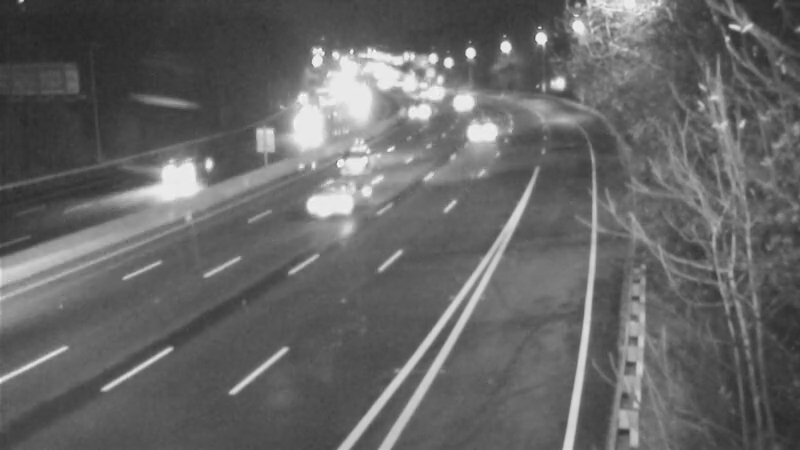vehicle: (318, 121, 398, 201), (287, 173, 367, 253), (118, 141, 198, 221), (408, 64, 458, 114), (401, 72, 451, 122), (439, 79, 489, 129), (383, 89, 433, 139), (457, 103, 507, 153), (275, 98, 325, 148)
